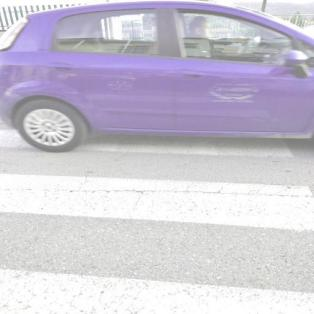Paso de Cebra: (0, 127, 314, 235)
